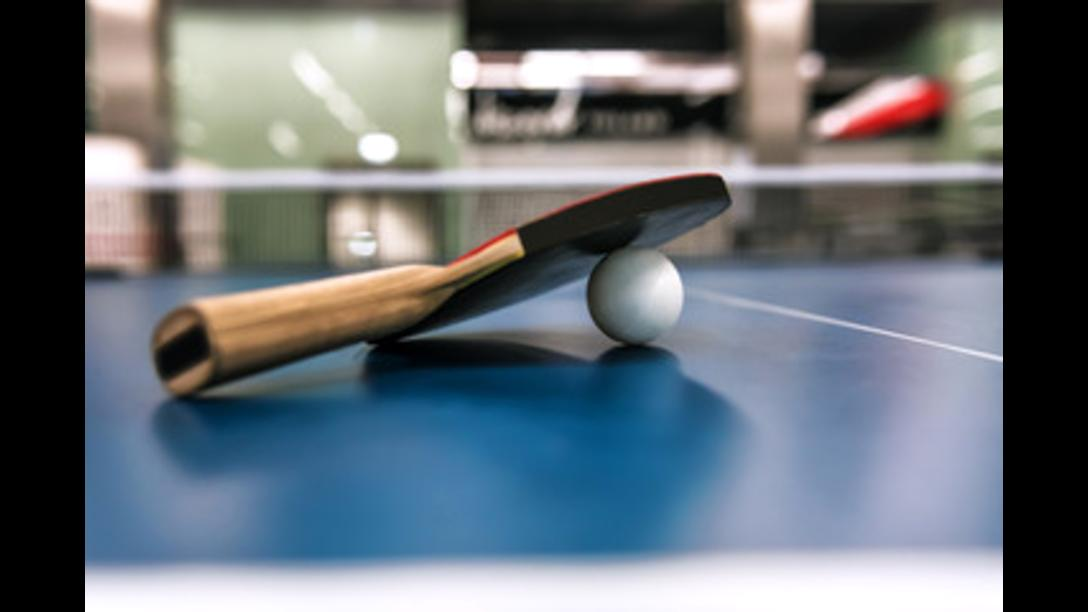Table-Tennis-Ball: (590, 245, 682, 340)
